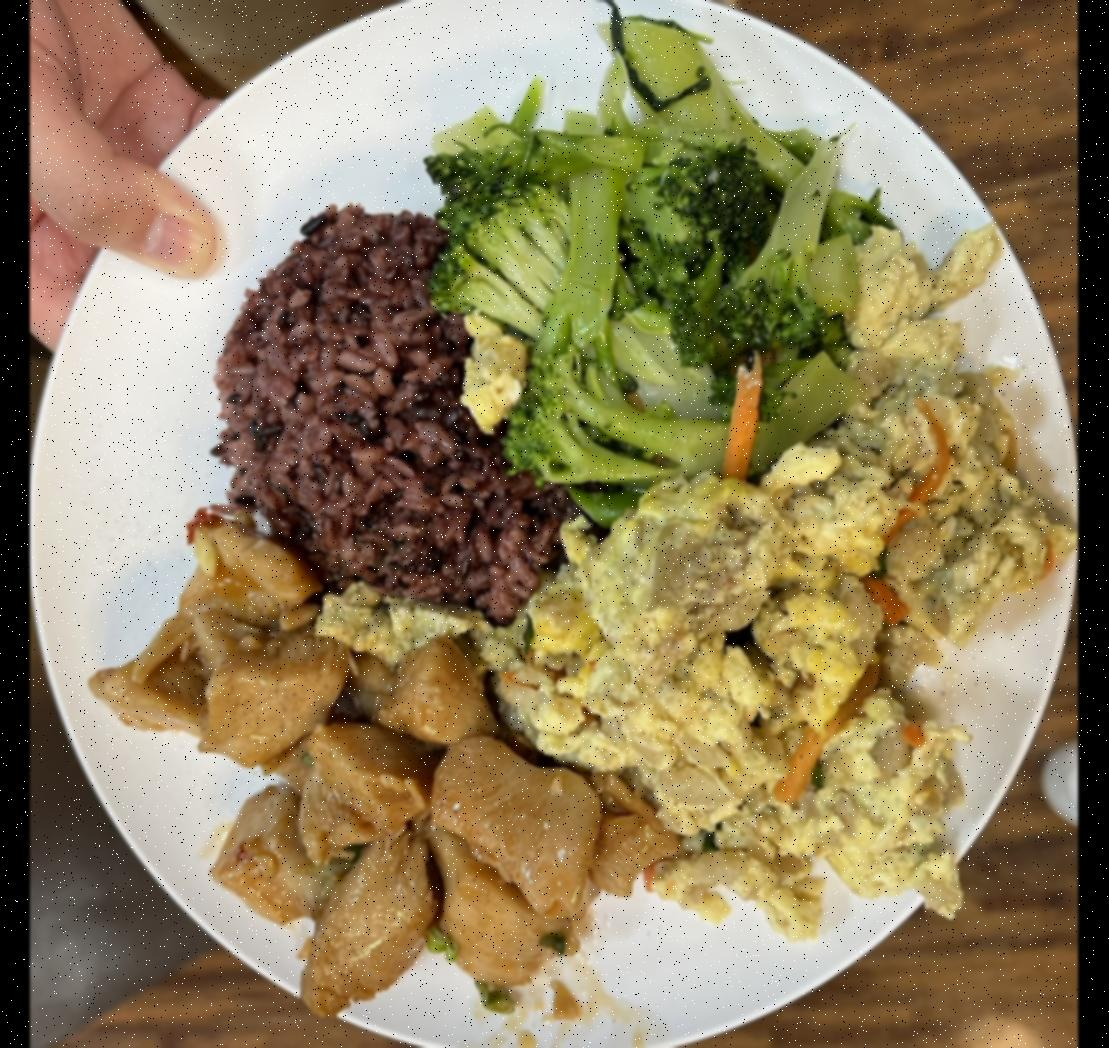plate: (30, 0, 1078, 1048)
purple rice: (209, 206, 576, 615)
side dish: (521, 232, 1054, 933), (424, 11, 878, 514)
three cup chicken: (78, 518, 669, 1008)
